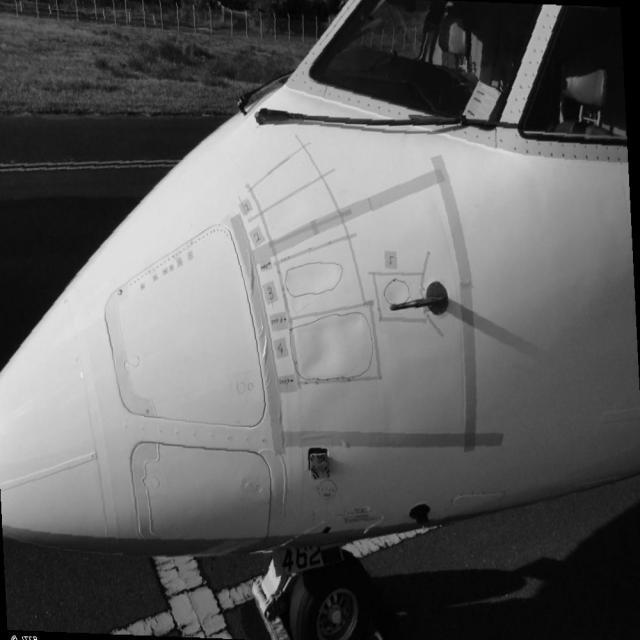dent: (305, 315, 367, 378), (290, 264, 341, 307), (385, 284, 411, 309)
